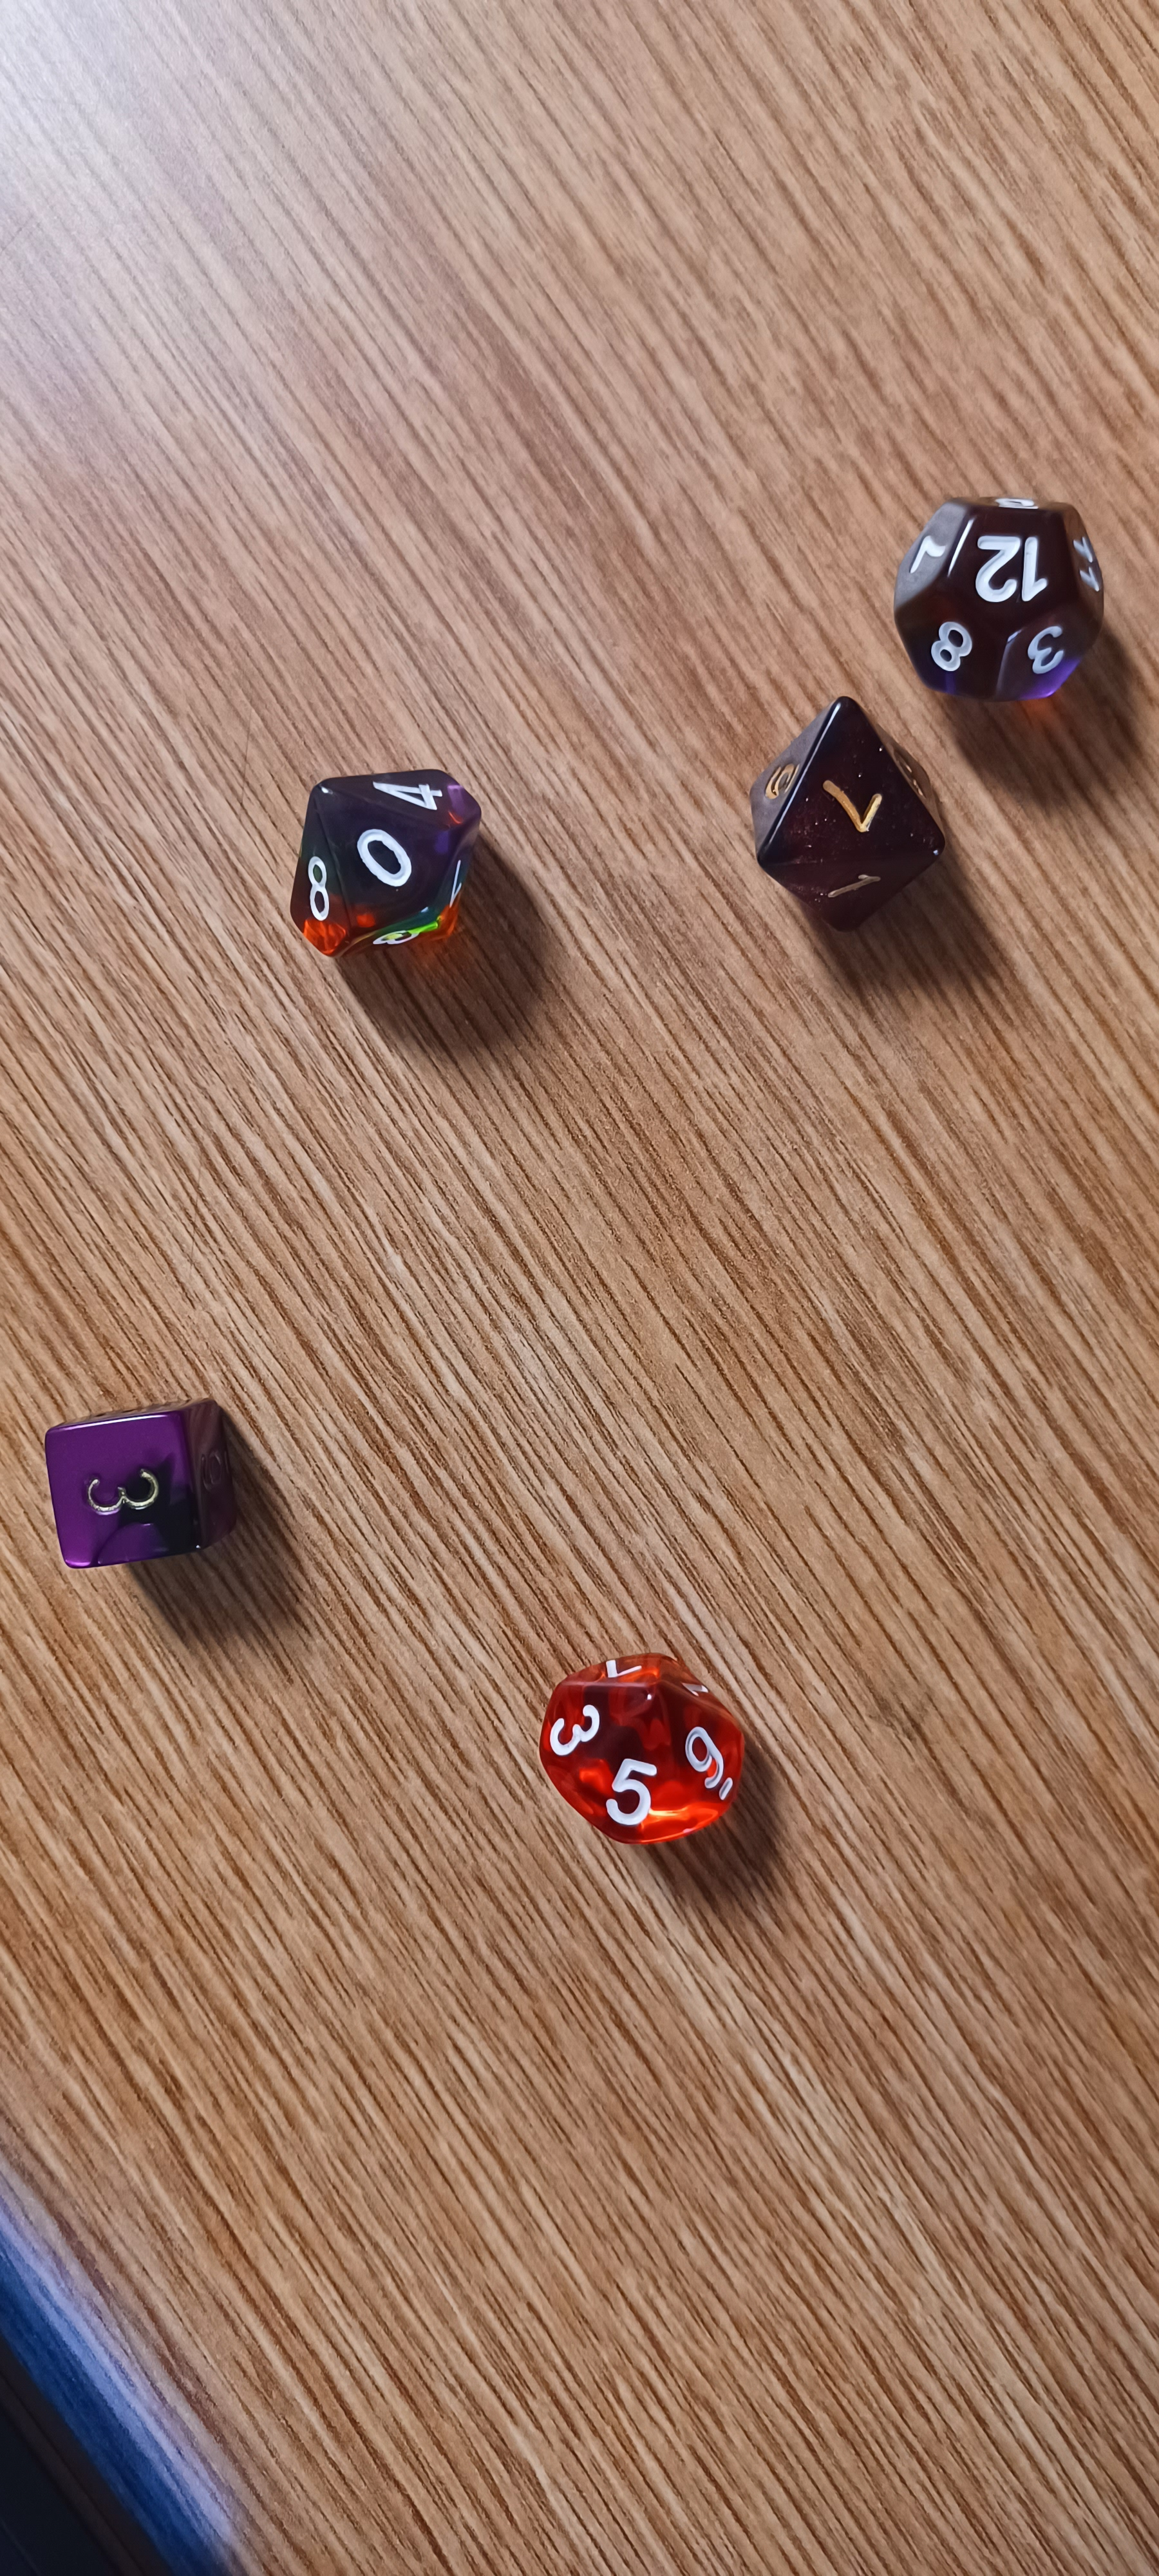five: (491, 1610, 791, 1898)
seven: (721, 669, 955, 943)
three: (21, 1388, 284, 1587)
twelve: (849, 453, 1146, 710)
zero: (245, 739, 527, 979)
